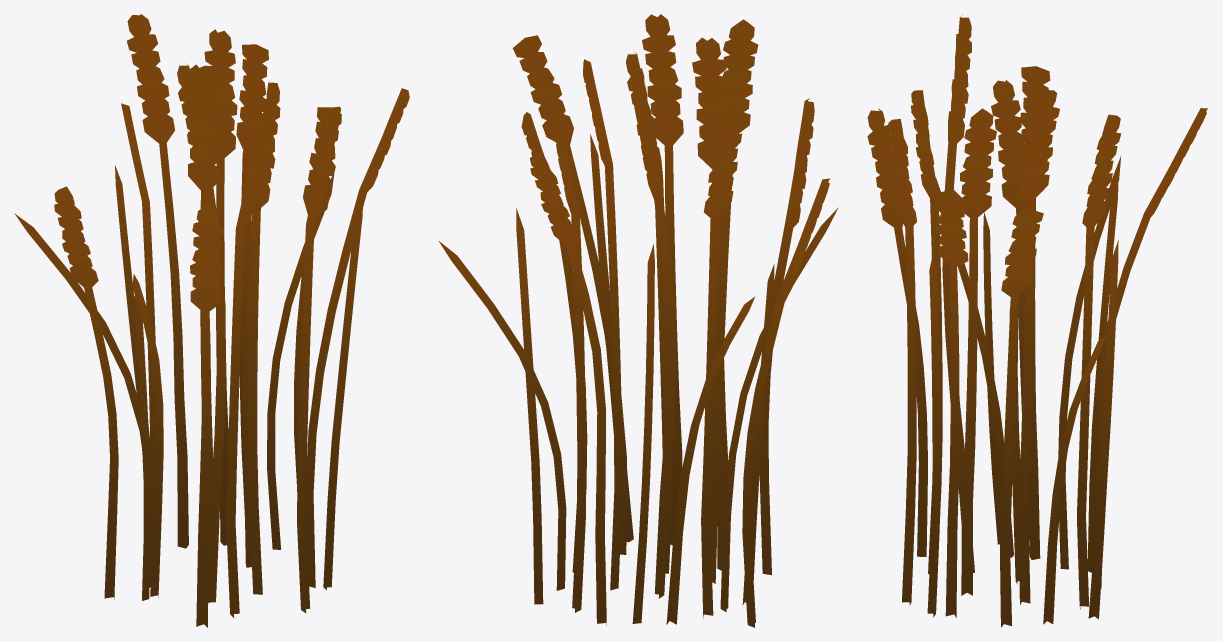
Rendered from nkwheat.glb.
3 renders of one model, left to right at view 1: azimuth 30°, elevation 25°; view 2: azimuth 150°, elevation 25°; view 3: azimuth 270°, elevation 25°, orthographic. The views are drawn at different scales.
Visible parts, largest first — view 1: Grass_Wheat; view 2: Grass_Wheat; view 3: Grass_Wheat.
Boxes of the visible parts, x1,y1,x2,y2 form: Grass_Wheat: (14, 14, 409, 627); Grass_Wheat: (439, 14, 838, 627); Grass_Wheat: (867, 15, 1207, 627).
Bounding box in the file's own units: 1.11 × 1.78 × 1.01.
Materials: 1 (1 with a texture image).
